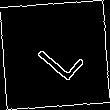L_NW: (26, 27, 84, 83)
